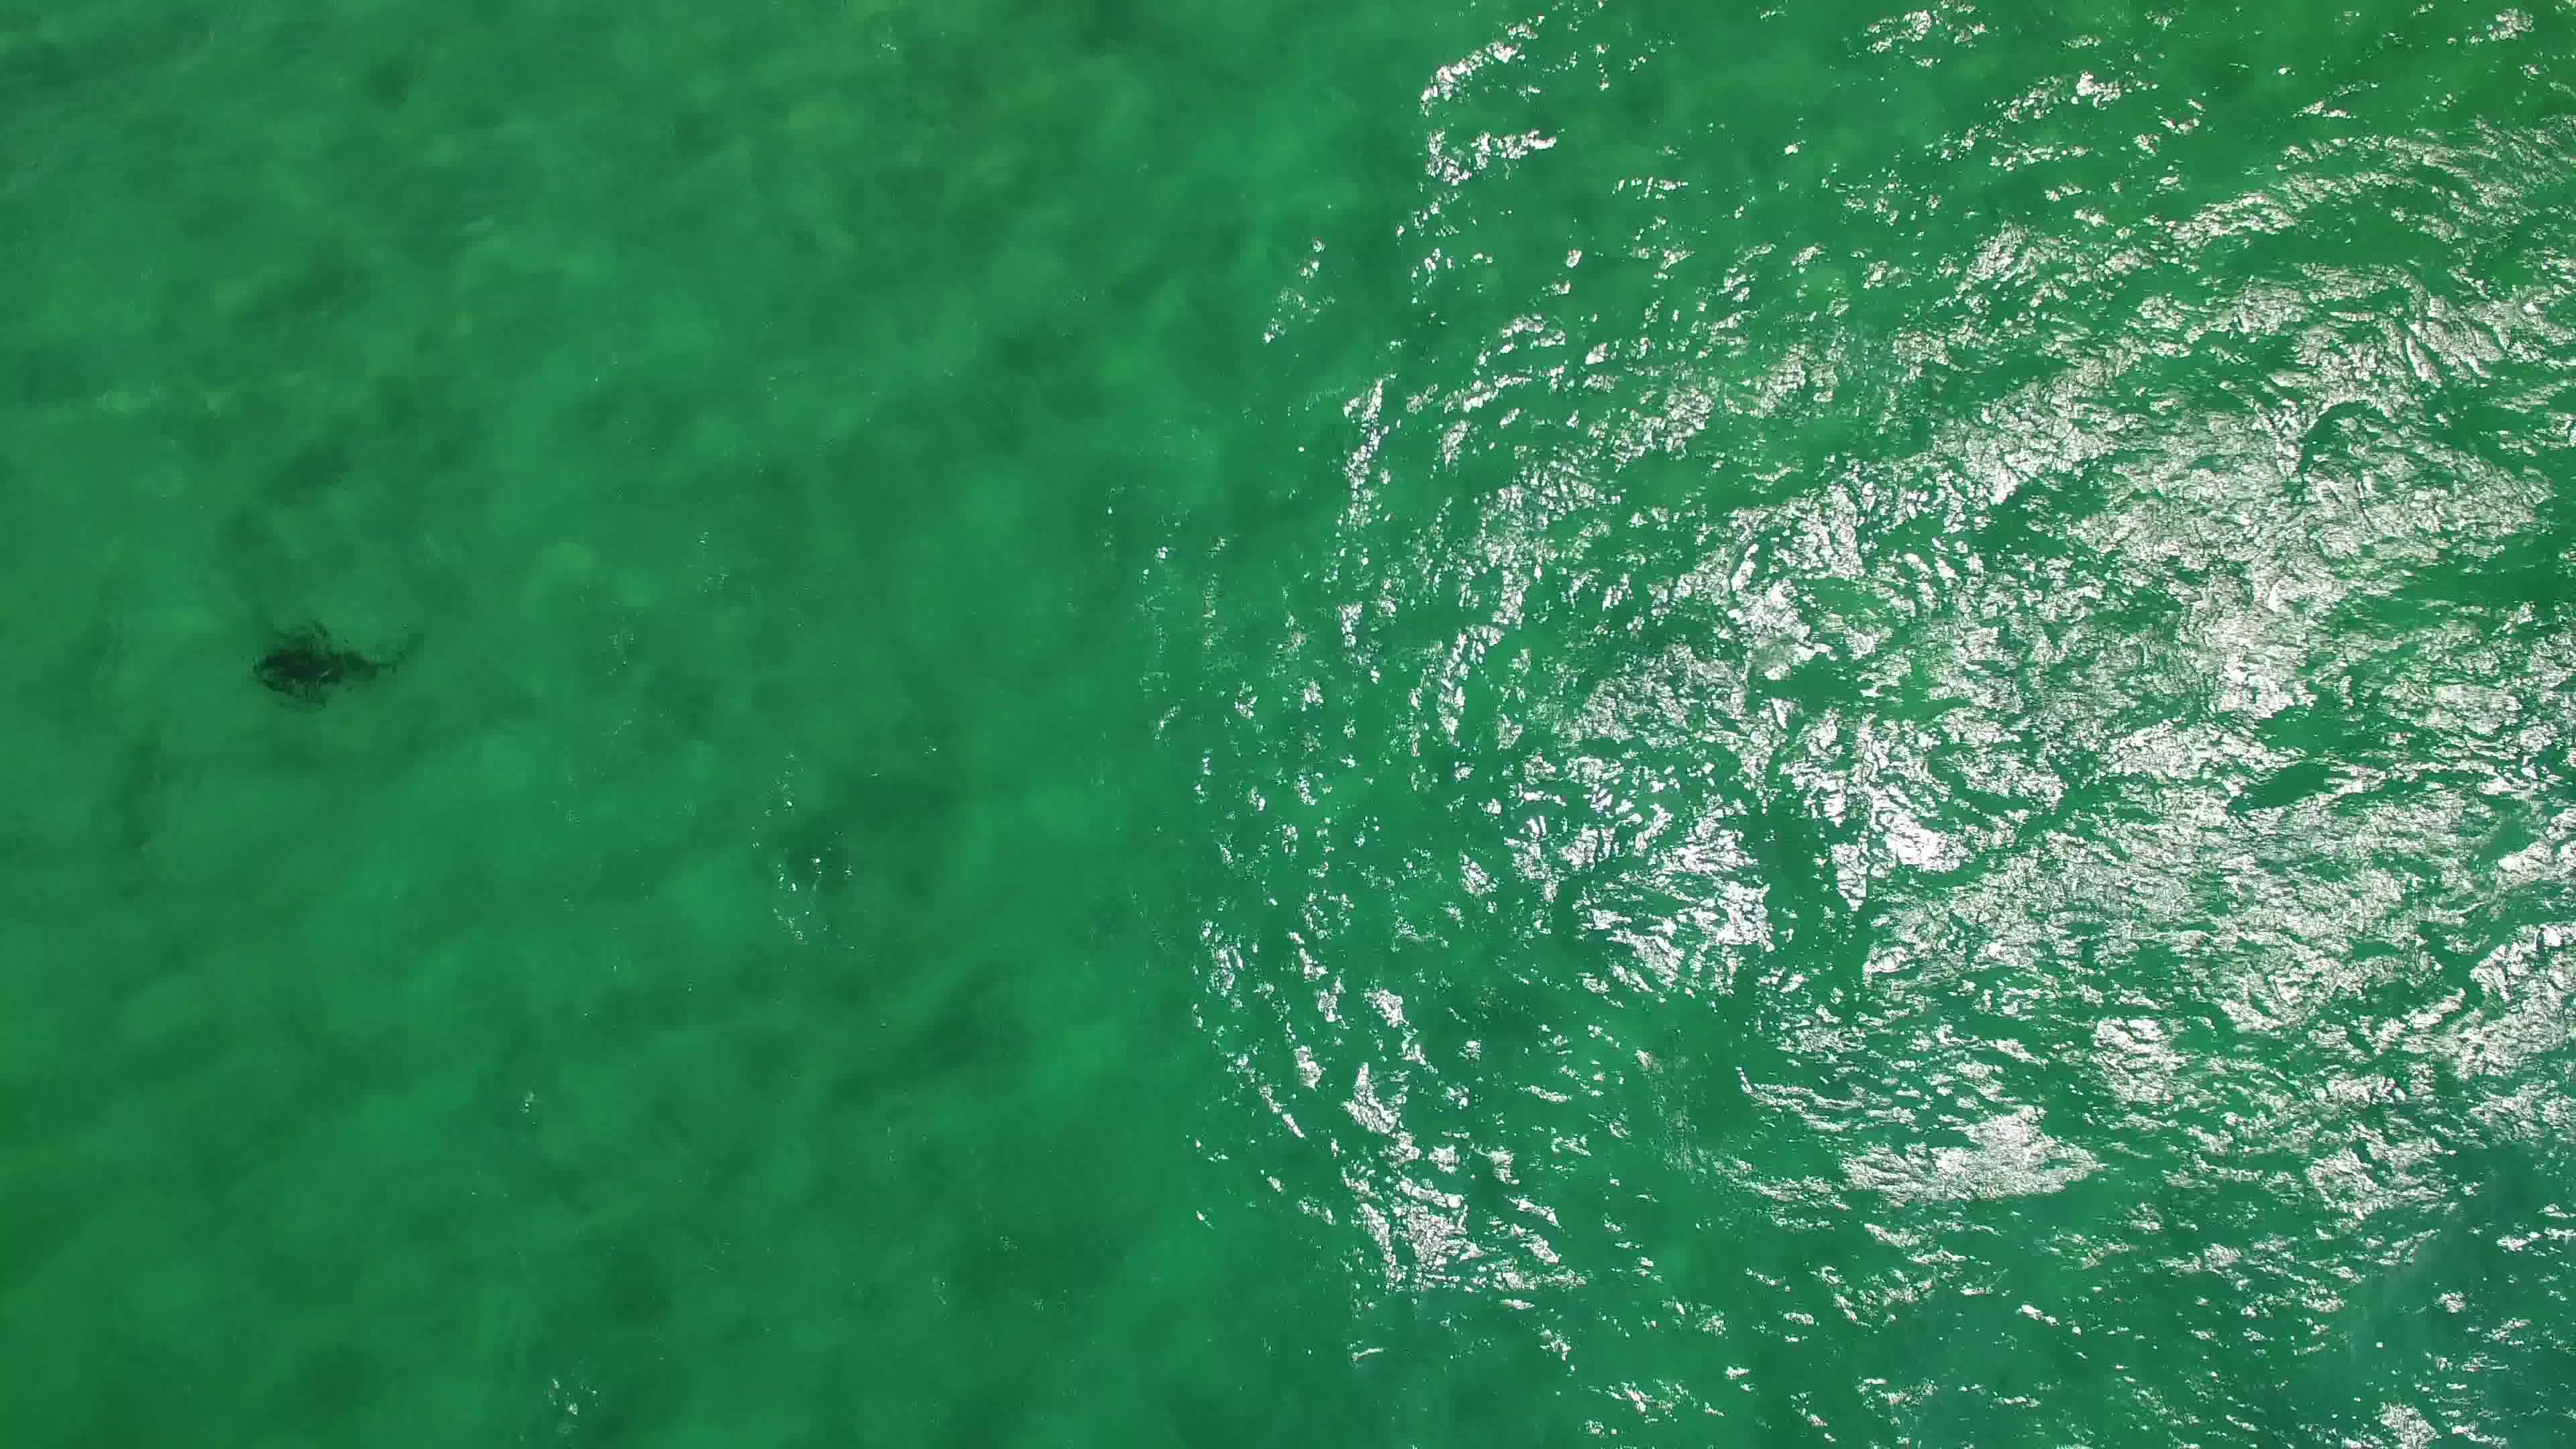shark: (241, 614, 426, 713)
